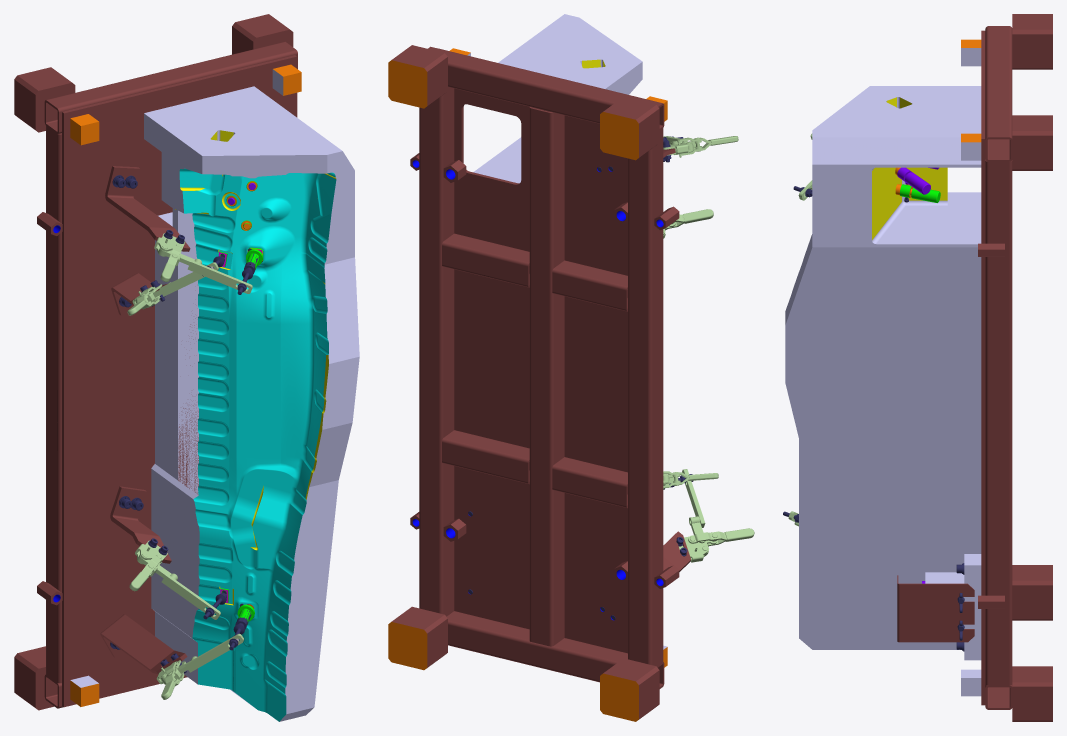
Rendered from FS146005_55717-0G020_K00260515_KEN.obj.
The picture shows the model from 3 angles, left to right: view 1: azimuth 30°, elevation 25°; view 2: azimuth 150°, elevation 25°; view 3: azimuth 270°, elevation 25°; orthographic projection. The views are drawn at different scales.
Visible parts, largest first — view 1: Shell_026, Shell_000, Shell_004, Shell_001, Shell_040, Shell_010, Shell_036, Shell_012, Shell_011, Shell_037, Shell_038, Shell_023 (+5 smaller); view 2: Shell_000, Shell_005, Shell_004, Shell_003, Shell_026, Shell_001, Shell_002, Shell_006, Shell_007, Shell_011, Shell_010, Shell_012 (+5 smaller); view 3: Shell_026, Shell_003, Shell_046, Shell_001, Shell_000, Shell_010, Shell_011, Shell_012, Shell_013, Shell_045, Shell_002, Shell_023 (+2 smaller).
Part boxes in pixels (x1,y1,x2,y2): Shell_026: (144,86,359,721); Shell_000: (62,55,297,707); Shell_004: (46,126,61,683); Shell_001: (44,41,297,133); Shell_040: (100,614,187,674); Shell_010: (14,67,75,132); Shell_036: (105,166,190,251); Shell_012: (14,646,53,710); Shell_011: (232,14,293,54); Shell_037: (110,486,171,563); Shell_038: (111,273,167,315); Shell_023: (272,64,301,95); Shell_000: (439,48,663,661); Shell_005: (529,107,564,646); Shell_004: (628,128,662,666); Shell_003: (419,87,454,616); Shell_026: (473,14,642,183); Shell_001: (428,46,664,130); Shell_002: (447,611,664,688); Shell_006: (442,430,529,484); Shell_007: (442,233,529,287); Shell_011: (388,45,447,108); Shell_010: (600,97,659,160); Shell_012: (600,658,659,721); Shell_026: (785,86,981,649); Shell_003: (985,159,1012,685); Shell_046: (897,575,974,642); Shell_001: (985,26,1012,161); Shell_000: (981,30,985,705); Shell_010: (1012,14,1052,69); Shell_011: (1012,115,1052,170); Shell_012: (1012,565,1052,620); Shell_013: (1012,666,1052,721); Shell_045: (925,554,981,660); Shell_002: (985,684,1012,709); Shell_023: (961,133,981,160).
Size of the model in its own units: 428 by 965 by 400.
